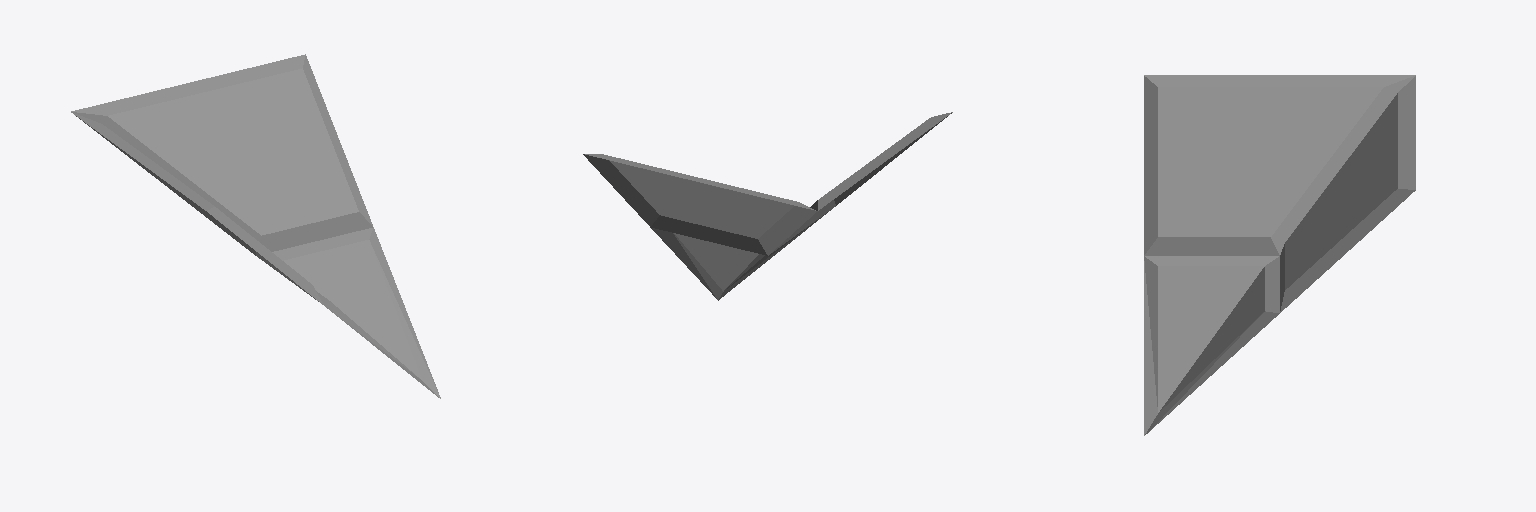
The model's file is Wall_Cap_Tall_Inside.obj.
3 views of the same model, side by side, from view 1: azimuth 30°, elevation 25°; view 2: azimuth 150°, elevation 25°; view 3: azimuth 270°, elevation 25° (orthographic).
Visible parts, largest first — view 1: Palette; view 2: Palette; view 3: Palette.
Boxes of the visible parts, x1,y1,x2,y2 form: Palette: [71, 54, 440, 398]; Palette: [583, 112, 952, 300]; Palette: [1144, 75, 1415, 435].
Bounding box in the file's own units: 6 × 6 × 6.